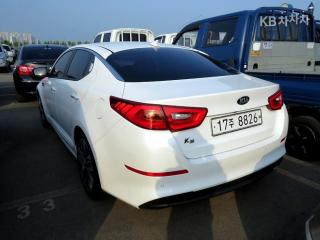1: (217, 119, 223, 132)
2: (249, 113, 254, 124)
6: (253, 112, 258, 123)
7: (223, 118, 229, 131)
8: (242, 114, 249, 125), (238, 115, 243, 127)
주: (229, 117, 234, 129)
